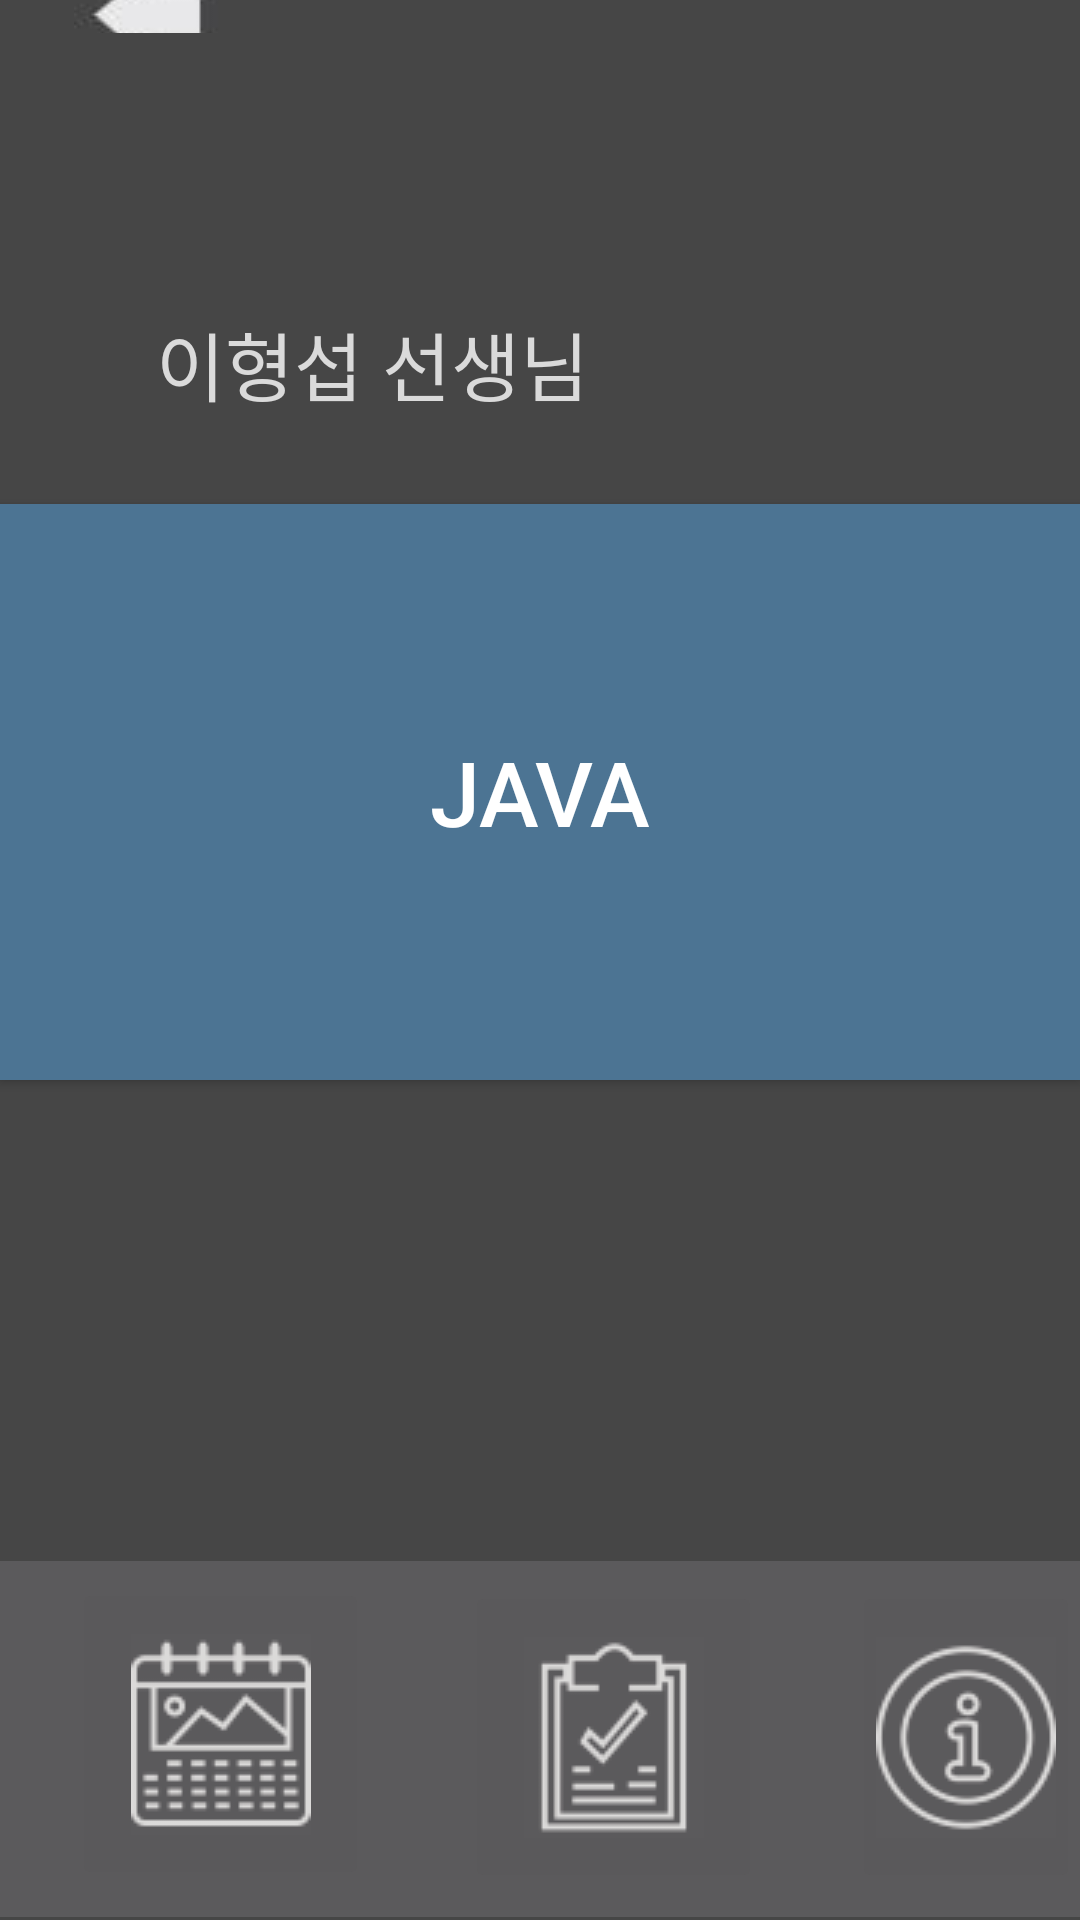

Named icons in this screenshot (1080px×1920px) and their centers, (x,y):
cal: (221,1734)
doc: (614,1737)
